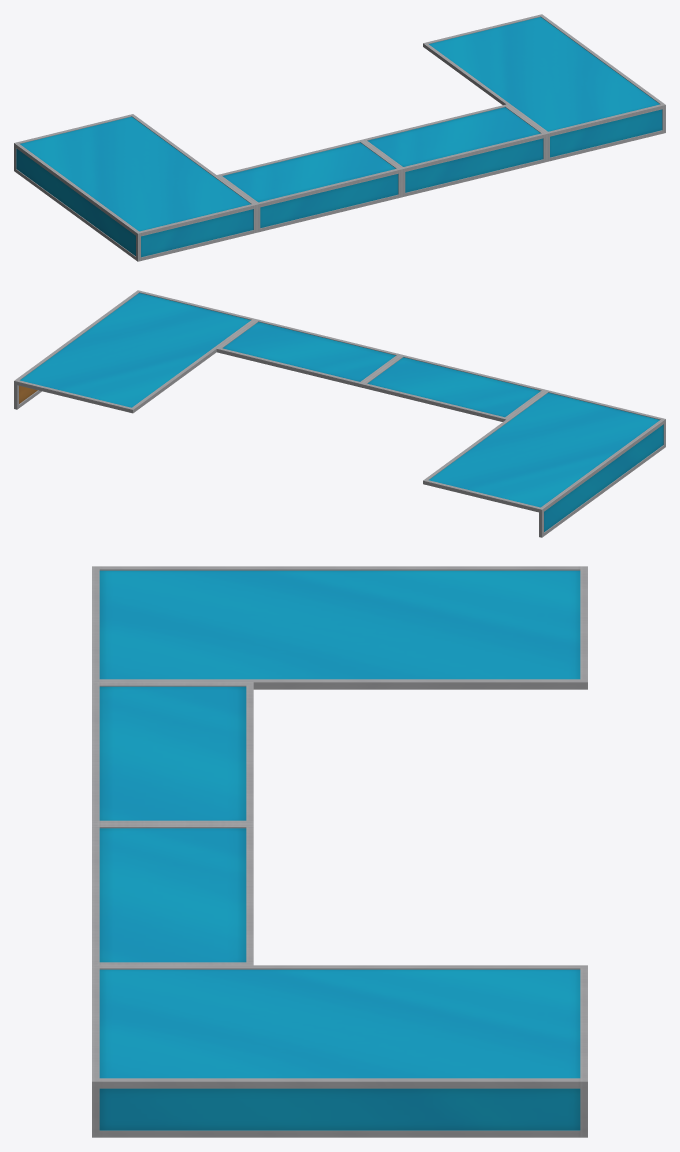
Rendered from jsf_2P_s02_c02_t03_DX.fbx.
3 renders of one model, top to bottom at view 1: azimuth 30°, elevation 25°; view 2: azimuth 150°, elevation 25°; view 3: azimuth 270°, elevation 25°, orthographic. The views are drawn at different scales.
Parts seen in each view (by area): view 1: jsf_2P_s02_c02_t03_DX; view 2: jsf_2P_s02_c02_t03_DX; view 3: jsf_2P_s02_c02_t03_DX.
Boxes of the visible parts, <box> form: jsf_2P_s02_c02_t03_DX: <box>14,14,665,261</box>; jsf_2P_s02_c02_t03_DX: <box>14,290,665,537</box>; jsf_2P_s02_c02_t03_DX: <box>92,566,587,1137</box>.
Bounding box in the file's own units: 246 × 12.51 × 100.
